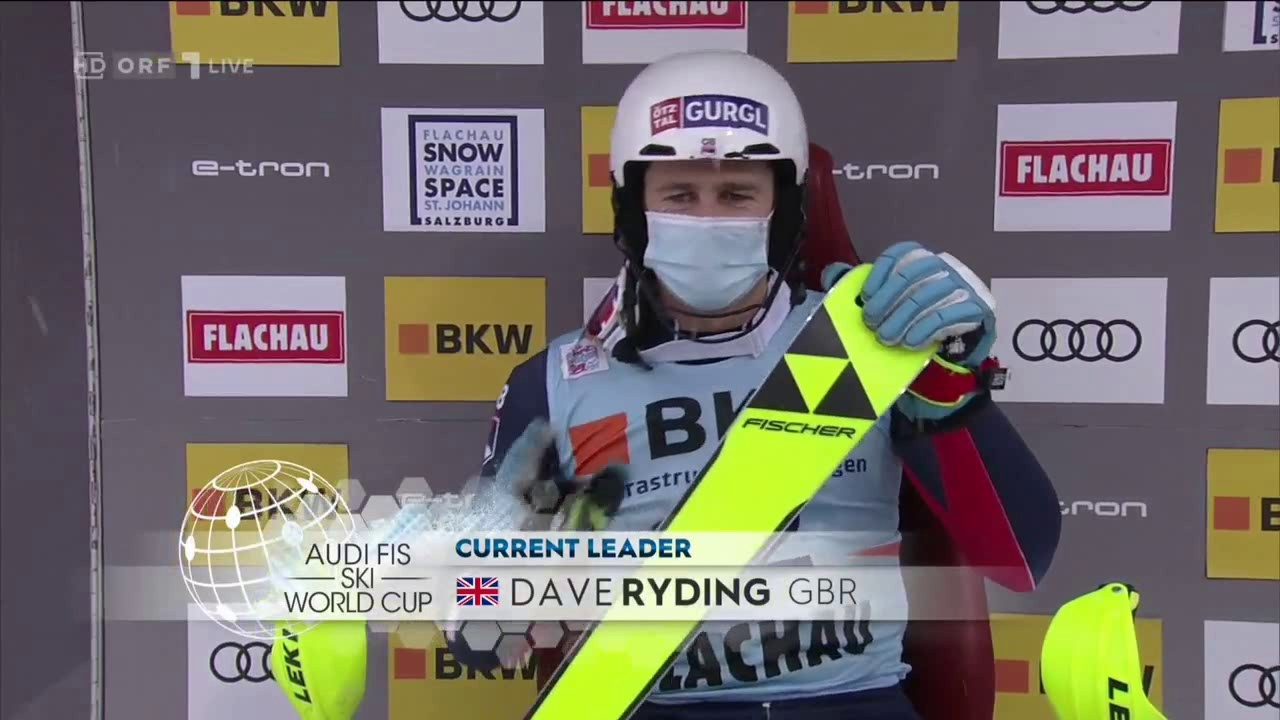BKW: (398, 297, 534, 381)
audi: (1015, 319, 1139, 369), (203, 639, 306, 691), (396, 3, 531, 31), (1024, 1, 1157, 24), (1231, 660, 1279, 715), (1234, 317, 1279, 370)
etron: (187, 159, 334, 185), (816, 161, 945, 188), (1037, 497, 1151, 523)
flachau: (999, 140, 1168, 199), (188, 309, 338, 368), (584, 1, 743, 33)
